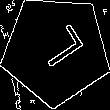L_SW: (27, 23, 85, 77)
